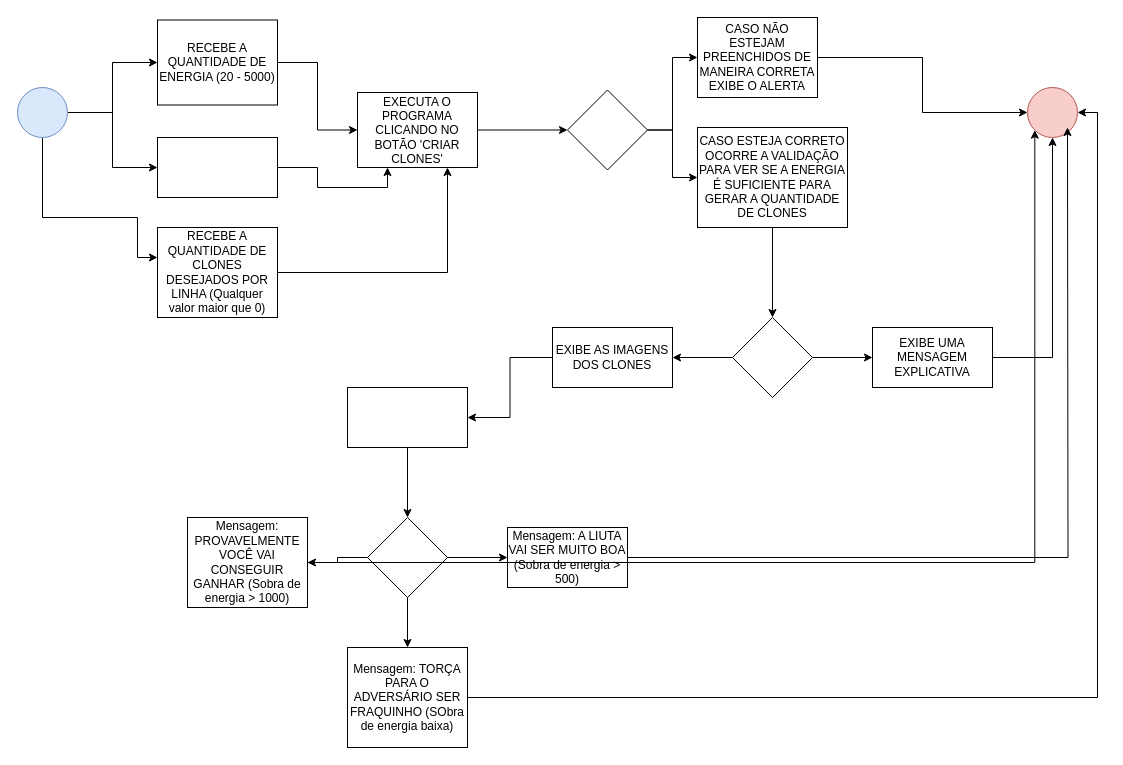
This 1123x765 diagram has some shape labels left out. The centre of each missing label's shape, as x and y in pixels:
"OCORRE A ANÁLISE DA GERAÇÃO DE CLONES" belongs at [407,417].
"RECEBE A QUANTIDADE DE CLONES (0 - 250)" belongs at [217,167].
